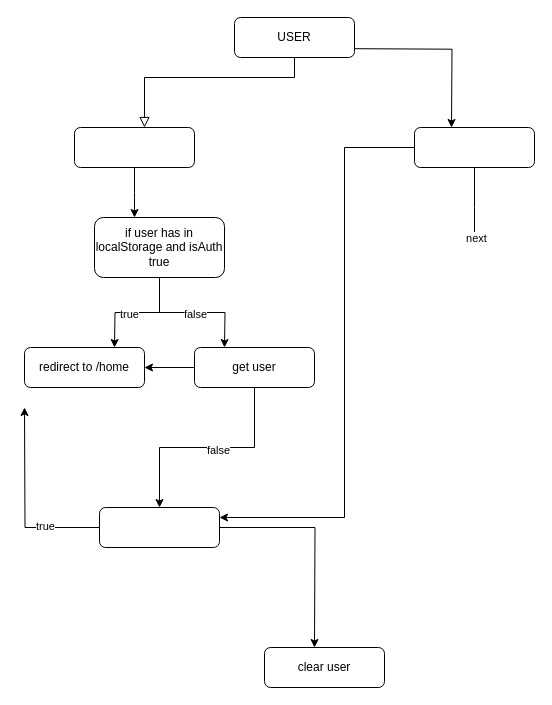
Image size: 552x705. Some labels were removed from this diagram. The shapes that lost their labels are listed below. From the top down, each one's centre as x and y in pixels, then its label:
the point at 134,147: if user to login
the point at 474,147: /any
the point at 159,527: refresh token request
